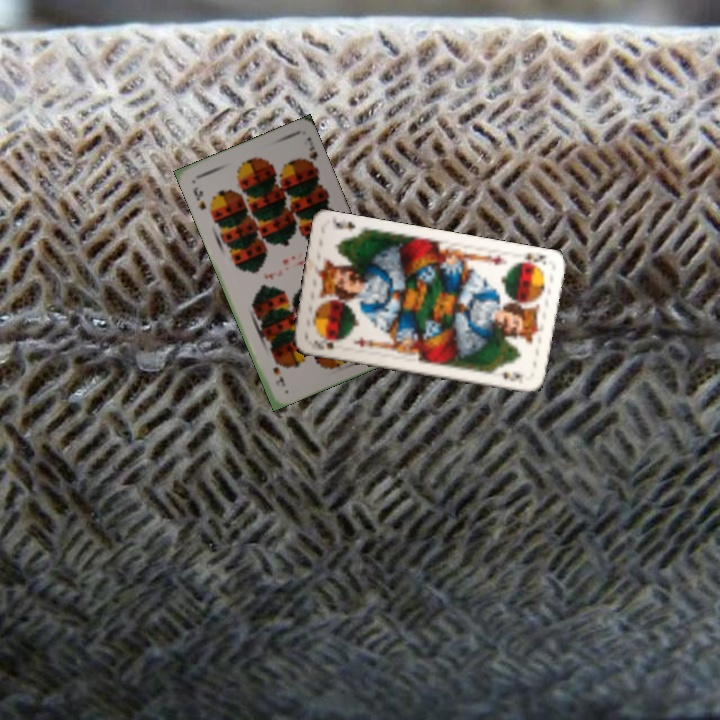S9: (189, 183, 209, 212)
SK: (511, 249, 549, 269), (310, 335, 336, 353)
